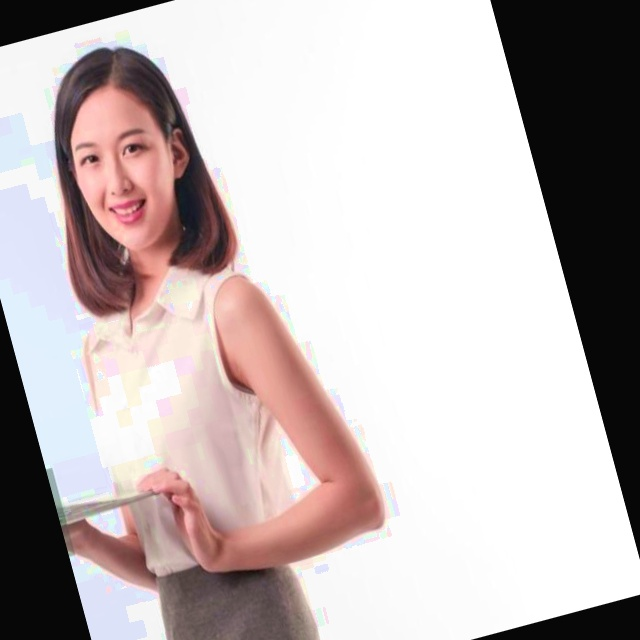Sin_Casco_Mascarrilla: (33, 32, 209, 264)
Sin_Chaleco: (67, 254, 325, 591)
